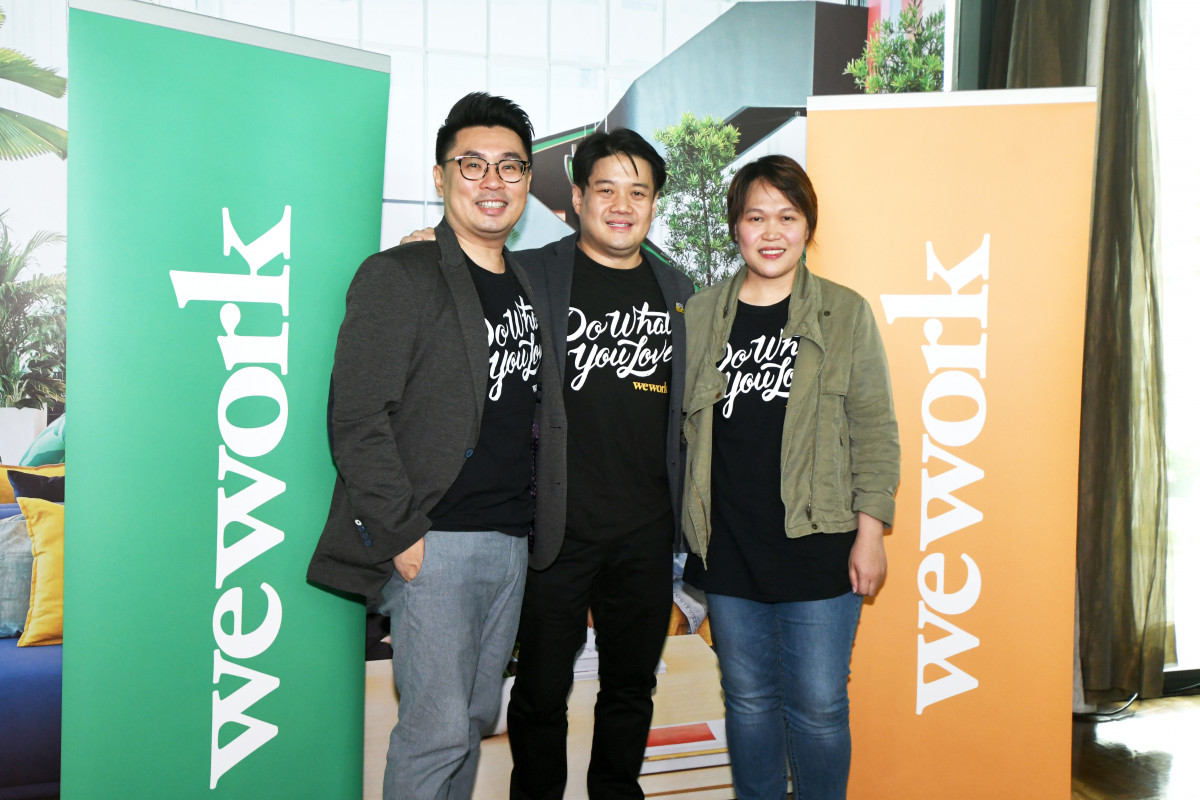wework: (164, 199, 294, 793), (876, 228, 998, 720), (631, 379, 671, 395)
